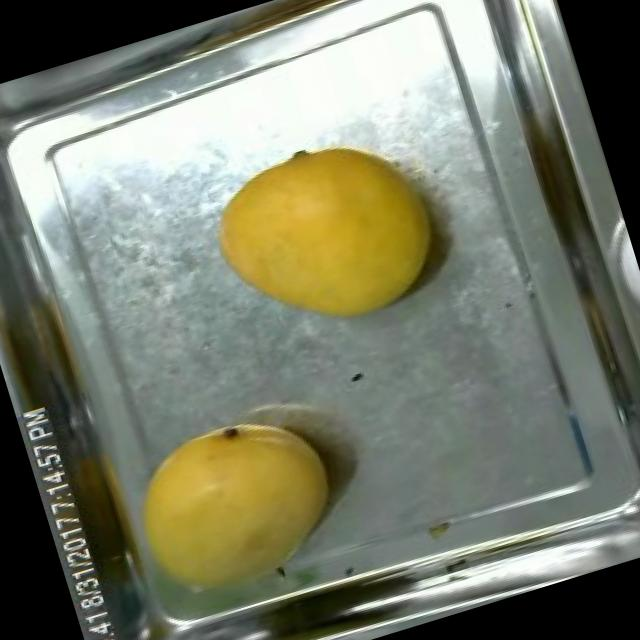fruit: (187, 108, 468, 366), (108, 389, 366, 628)
